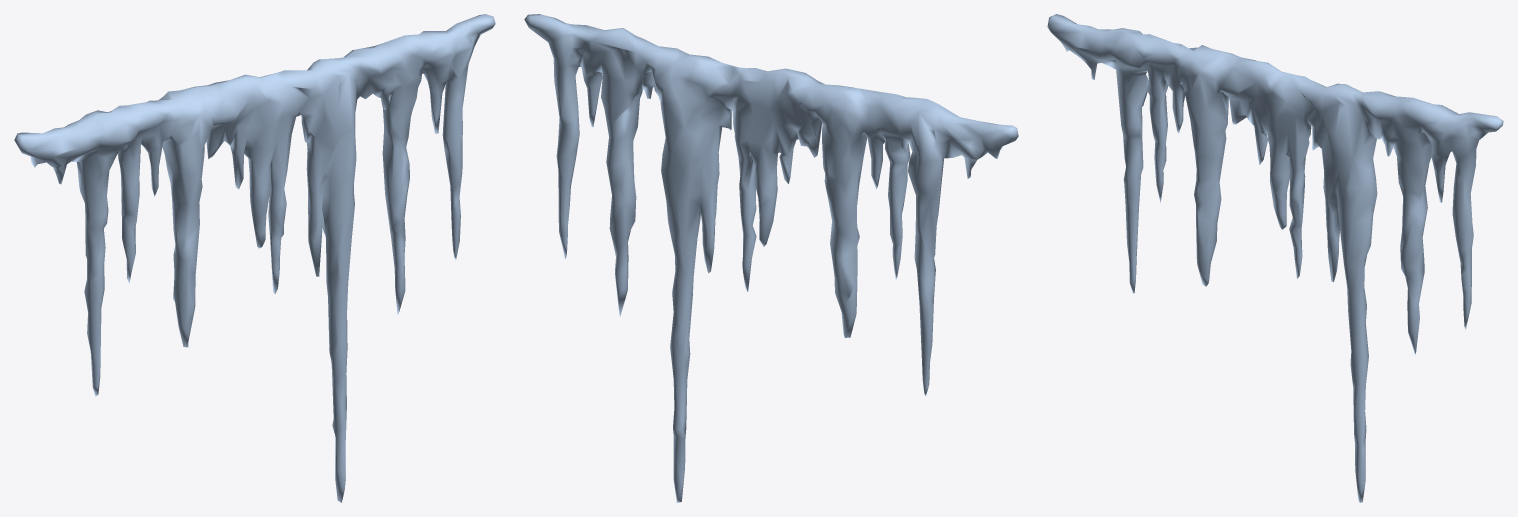
The model's file is IciclesSmall_03.fbx.
The picture shows the model from 3 angles, left to right: view 1: azimuth 30°, elevation 25°; view 2: azimuth 150°, elevation 25°; view 3: azimuth 330°, elevation 25°; orthographic projection. The views are drawn at different scales.
Visible parts, largest first — view 1: IciclesSmall_03.001; view 2: IciclesSmall_03.001; view 3: IciclesSmall_03.001.
Boxes of the visible parts, x1,y1,x2,y2 form: IciclesSmall_03.001: (14,14,495,502); IciclesSmall_03.001: (524,14,1018,502); IciclesSmall_03.001: (1047,14,1503,502).
Bounding box in the file's own units: 1.12 × 1 × 0.1173.
